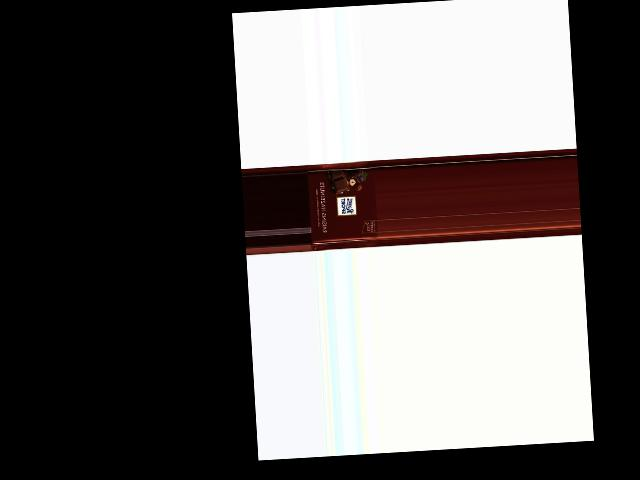chocolate: (306, 159, 378, 251)
